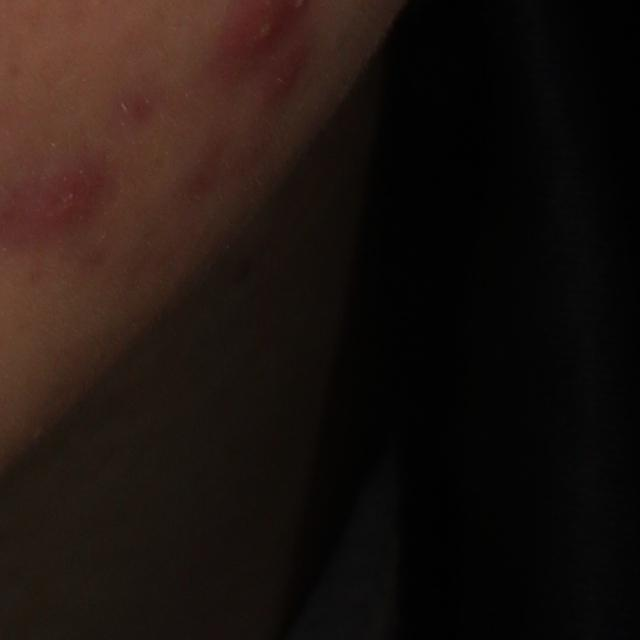papule: (13, 157, 103, 236), (265, 47, 303, 103)
